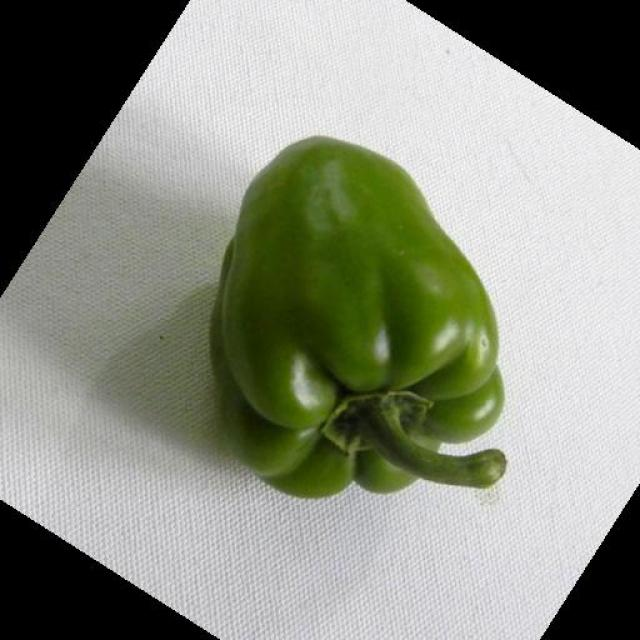Fresh_Capsicum: (219, 137, 530, 514)
